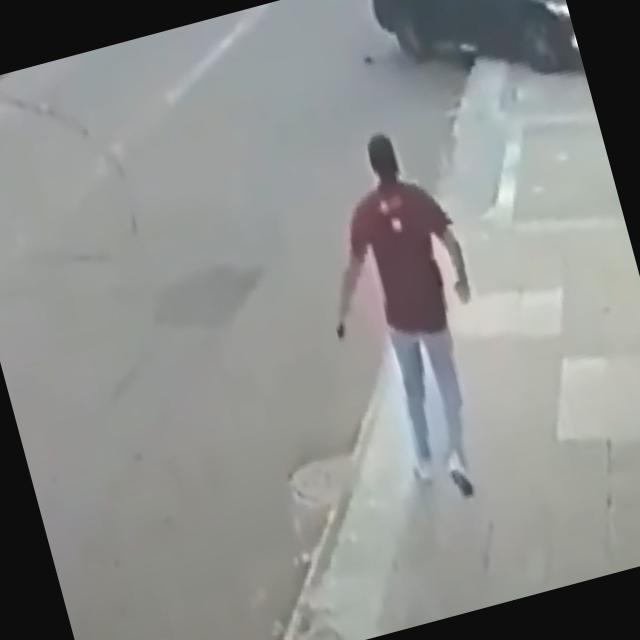person: (291, 116, 524, 512)
